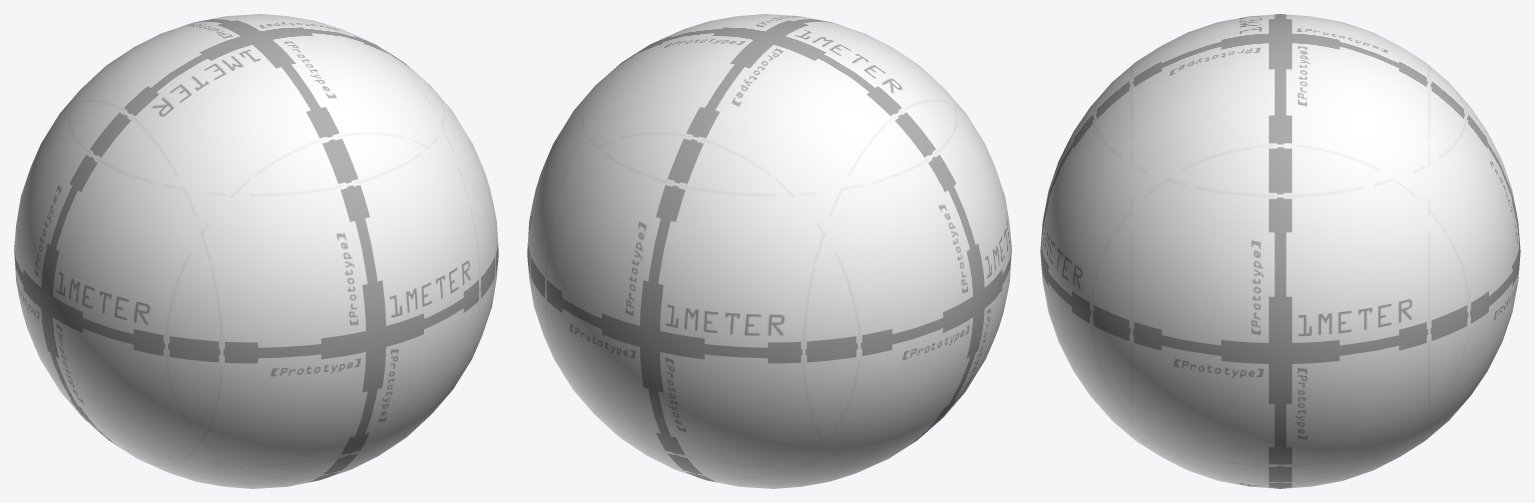
3 views of the same model, side by side, from view 1: azimuth 30°, elevation 25°; view 2: azimuth 150°, elevation 25°; view 3: azimuth 270°, elevation 25° (orthographic).
Parts seen in each view (by area): view 1: Sphere; view 2: Sphere; view 3: Sphere.
Part boxes in pixels (x1,y1,x2,y2): Sphere: [14, 14, 498, 488]; Sphere: [527, 14, 1011, 488]; Sphere: [1040, 14, 1520, 488].
Bounding box in the file's own units: 0.8161 × 0.7949 × 0.8072.
1 material, 1 textured.
